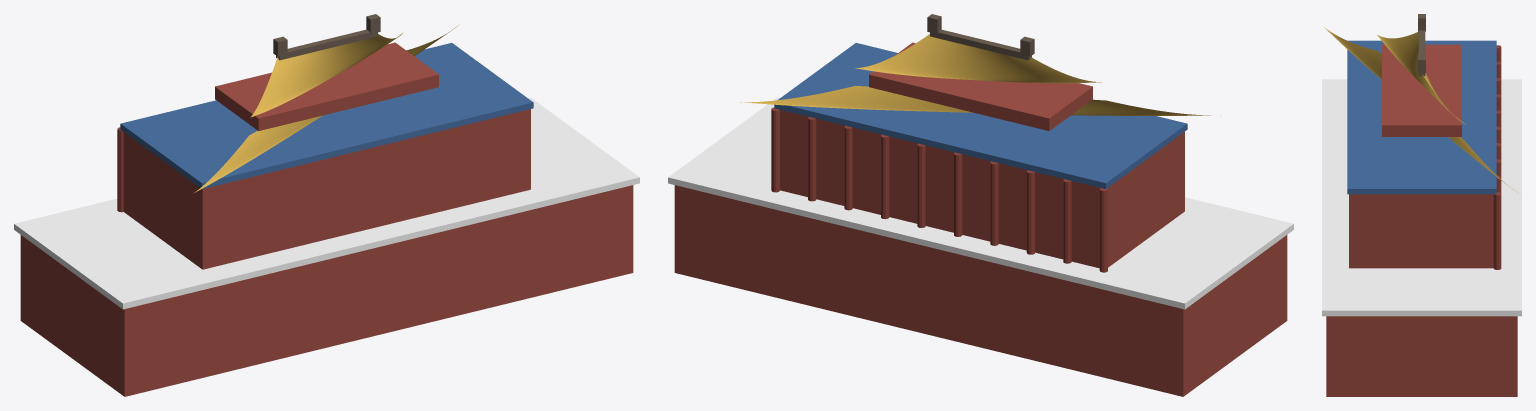
File: shenwumen.glb
The picture shows the model from 3 angles, left to right: view 1: azimuth 30°, elevation 25°; view 2: azimuth 150°, elevation 25°; view 3: azimuth 270°, elevation 25°; orthographic projection. The views are drawn at different scales.
Parts seen in each view (by area): view 1: shenwumen; view 2: shenwumen; view 3: shenwumen.
Part boxes in pixels (x1,y1,x2,y2): shenwumen: (14,14,639,396); shenwumen: (668,14,1293,396); shenwumen: (1322,14,1521,396).
Bounding box in the file's own units: 63 × 31.28 × 23.
